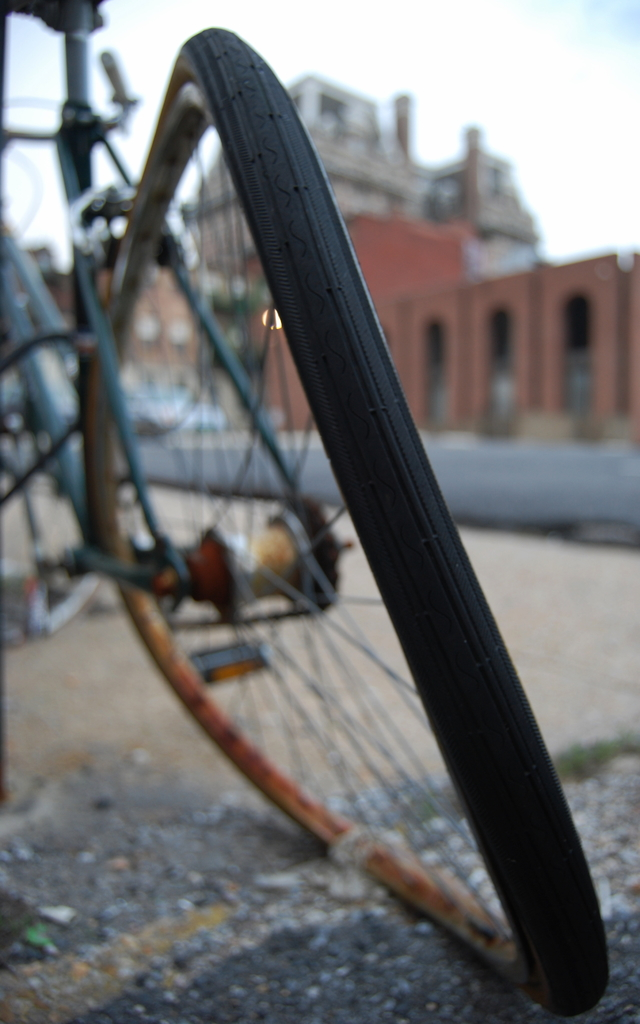bicycle: (0, 0, 612, 1015)
